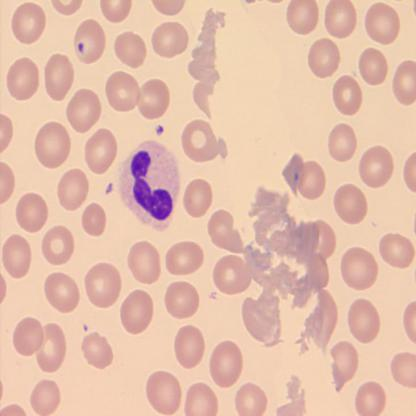Segmented neutrophil: (116, 138, 183, 233)
